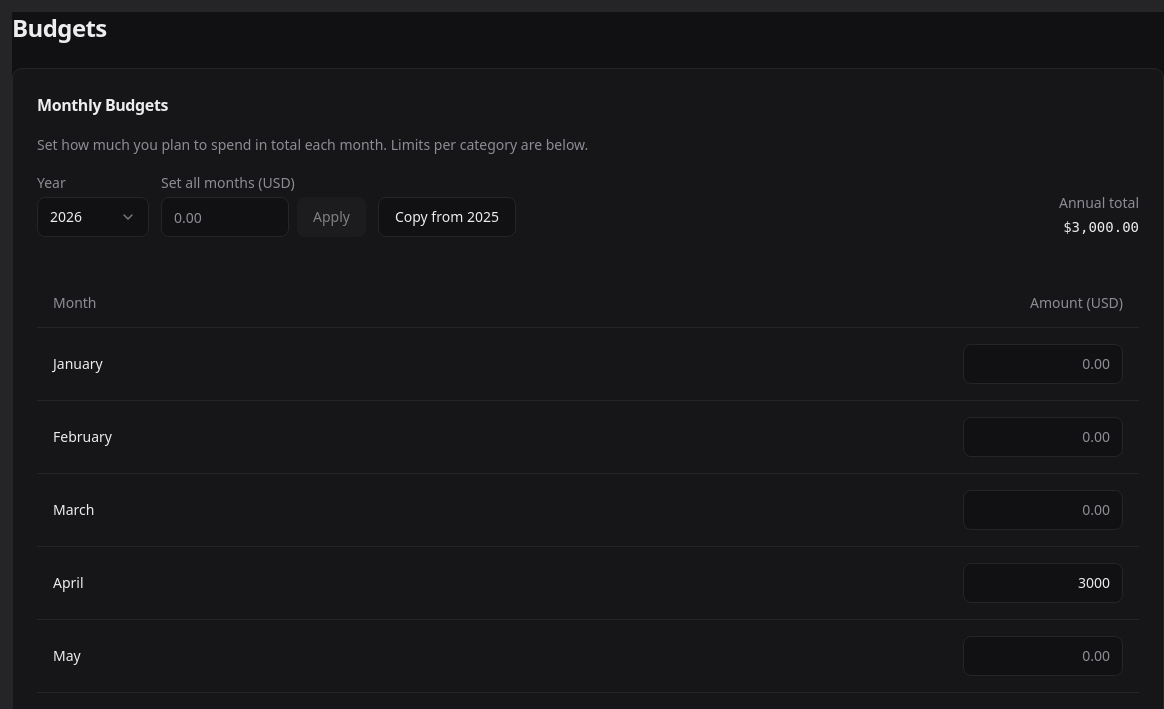
Scenario: Budgets page › Monthly Budgets panel — as admin › Set all applies amount to every month and shows Undo
The image size is (1164, 709).
expect the number field named "Budget for April 2026" holds "3000": met, box x1=963 y1=562 x2=1123 y2=602
Type "1000" into the number field named "Apply amount to all months of 2026" at (225, 217), box x1=161 y1=197 x2=289 y2=237
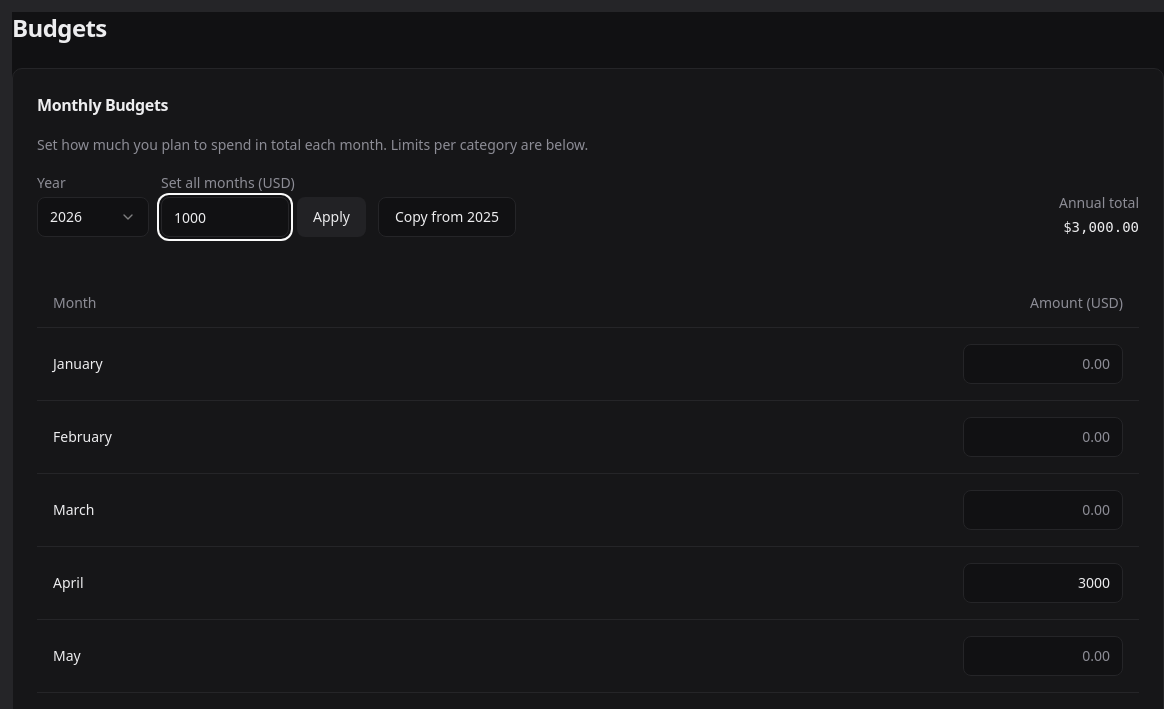
Click the button "Apply" at (331, 217), box x1=297 y1=197 x2=366 y2=237
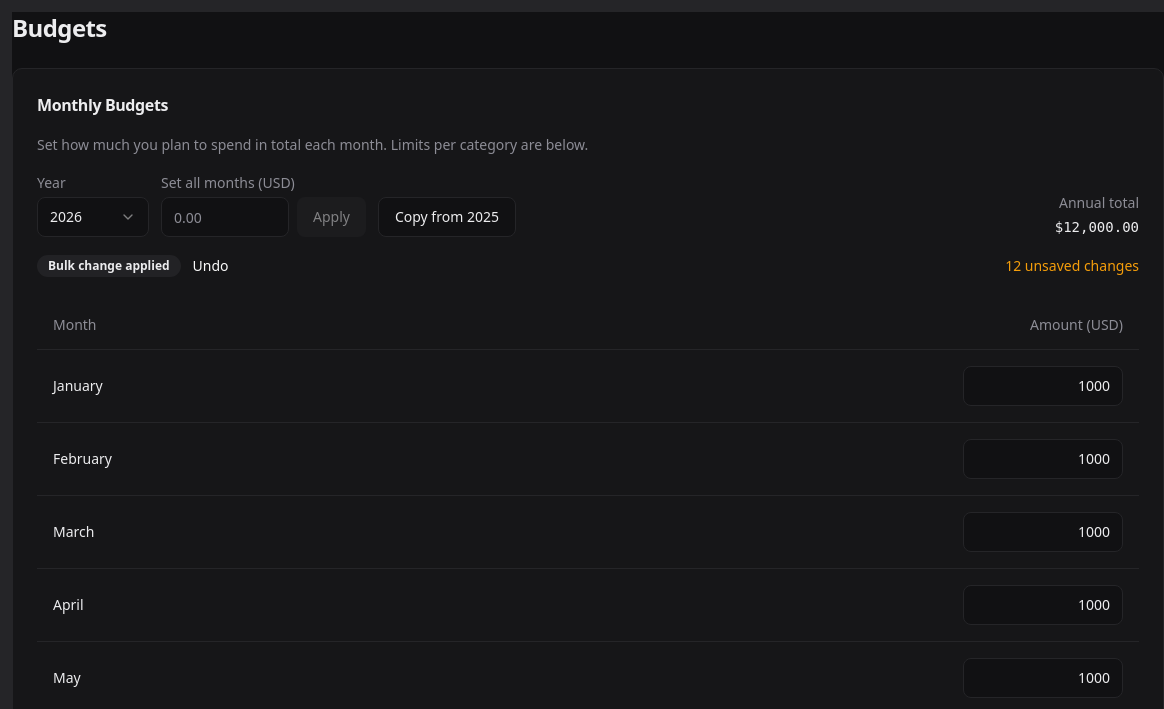
expect the number field named "Budget for January 2026" holds "1000": met, box x1=963 y1=366 x2=1123 y2=406
expect the number field named "Budget for February 2026" holds "1000": met, box x1=963 y1=438 x2=1123 y2=478
expect the number field named "Budget for April 2026" holds "1000": met, box x1=963 y1=584 x2=1123 y2=624
